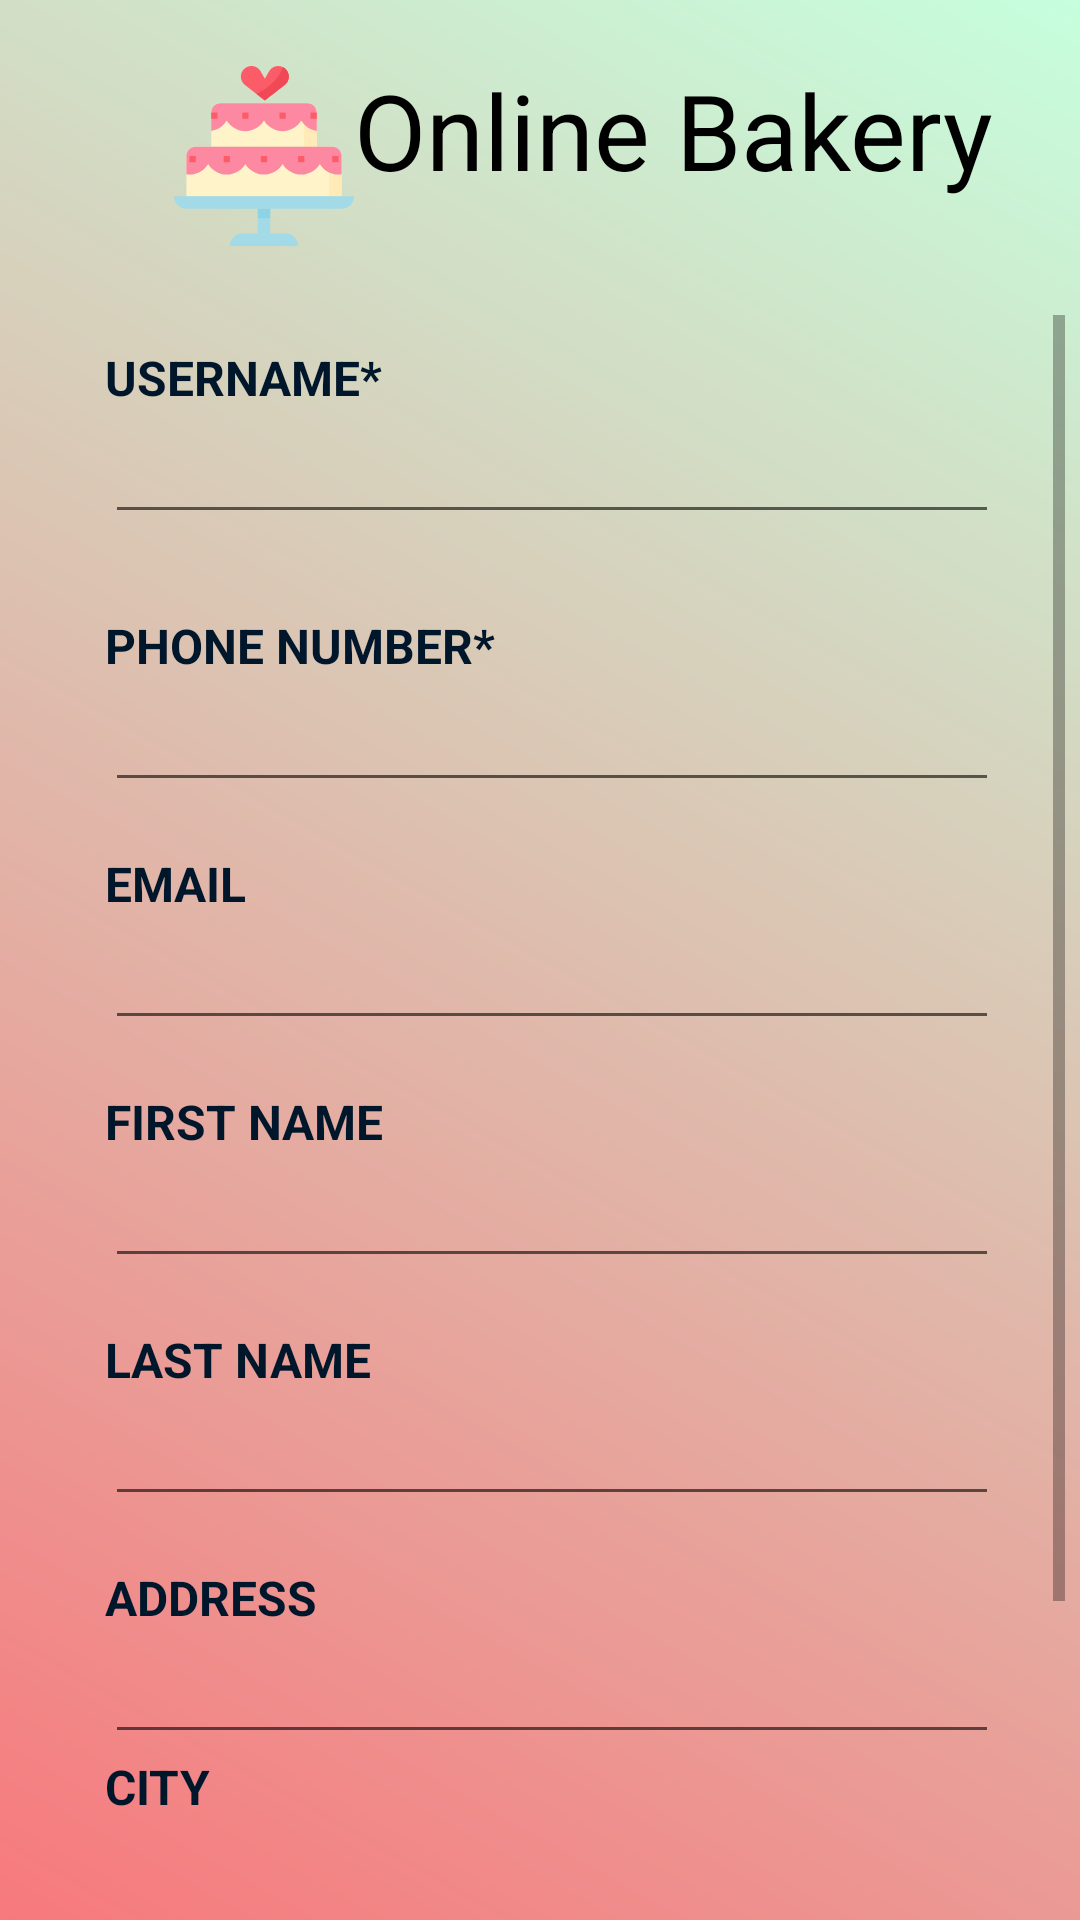

Named icons in this screenshot (1080 x 1920) and their centers, (x,y):
wedding cake: (264,156)
